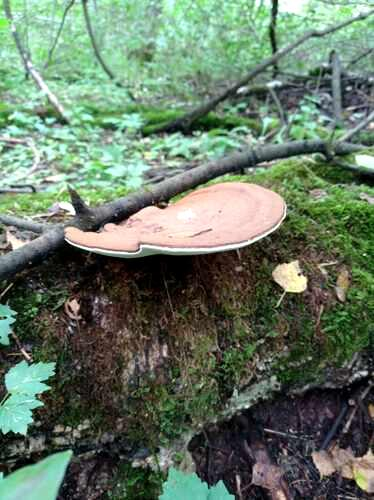Ganoderma - Fruit Body: (60, 177, 291, 269)
